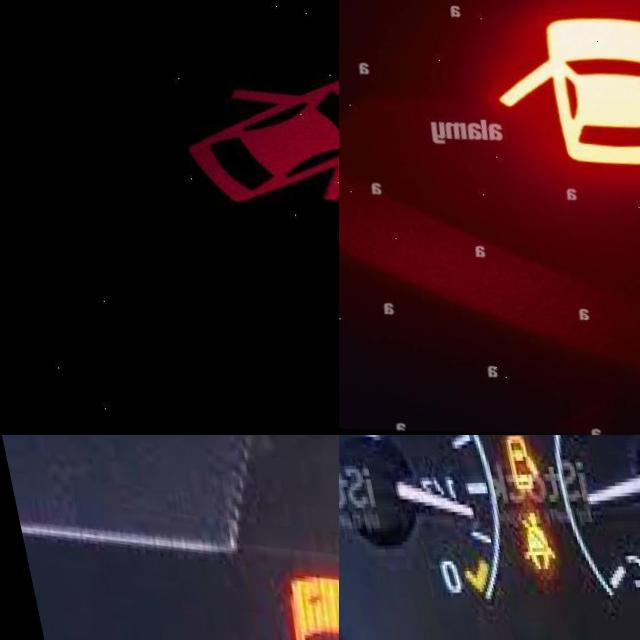Seat Belt: (499, 513, 547, 574)
